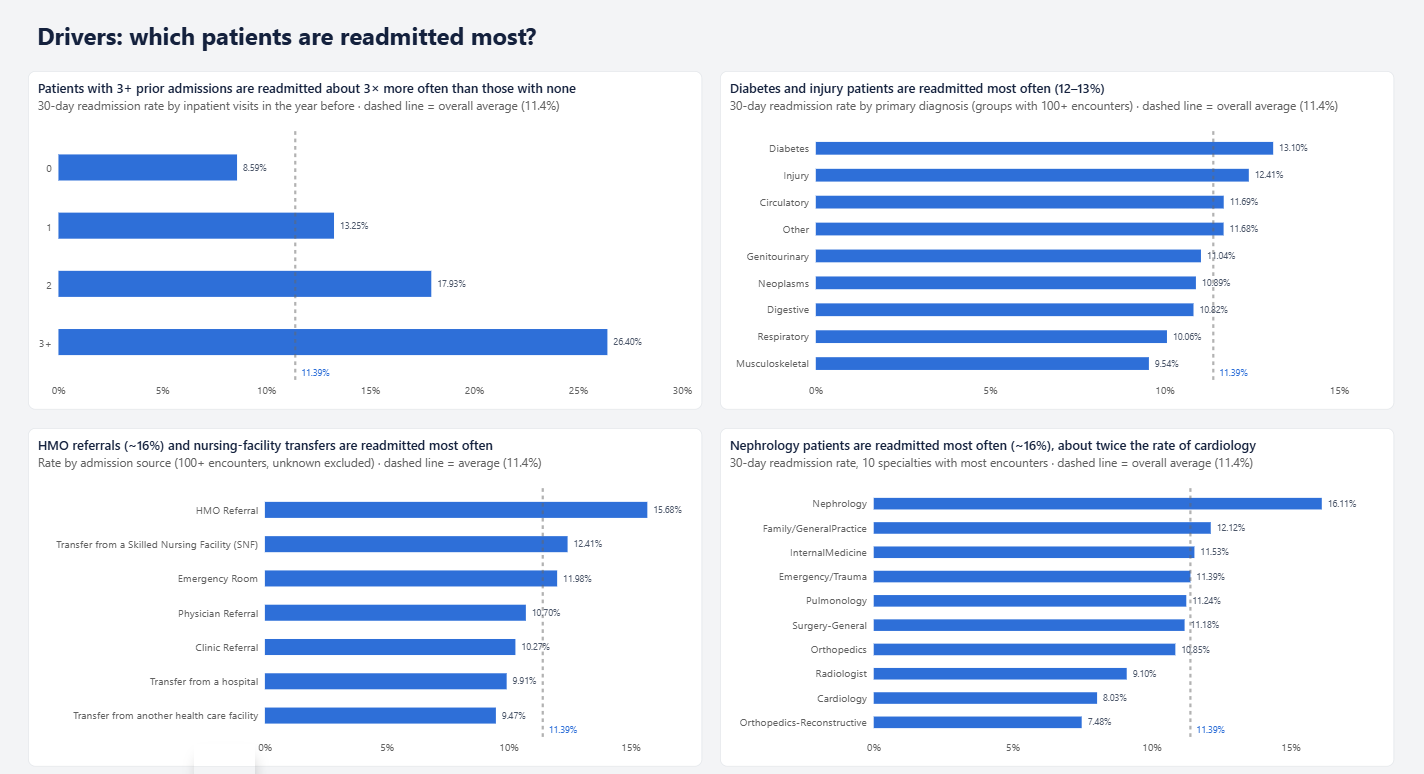

The page's visual inventory and layout, read from the dashboard file:
{"tool":"powerbi","page":{"name":"Drivers","canvas":[1920,1080],"ordinal":1},"visuals":[{"type":"clusteredBarChart","title":"Patients with 3+ prior admissions are readmitted about 3× more often than those with none","fields":{"Category":["FCT_ENCOUNTER.PRIOR_INPATIENT_BAND"],"Y":["FCT_ENCOUNTER.Readmission Rate 30d"]},"box":[40,104,908,456],"z":0},{"type":"clusteredBarChart","title":"Diabetes and injury patients are readmitted most often (12–13%)","fields":{"Category":["FCT_ENCOUNTER.PRIMARY_DIAGNOSIS_GROUP"],"Y":["FCT_ENCOUNTER.Readmission Rate 30d"]},"box":[972,104,908,456],"z":1000},{"type":"clusteredBarChart","title":"HMO referrals (~16%) and nursing-facility transfers are readmitted most often","fields":{"Category":["FCT_ENCOUNTER.ADMISSION_SOURCE"],"Y":["FCT_ENCOUNTER.Readmission Rate 30d"]},"box":[40,584,908,456],"z":2000},{"type":"clusteredBarChart","title":"Nephrology patients are readmitted most often (~16%), about twice the rate of cardiology","fields":{"Category":["FCT_ENCOUNTER.MEDICAL_SPECIALTY"],"Y":["FCT_ENCOUNTER.Readmission Rate 30d"]},"box":[972,584,908,456],"z":3000},{"type":"textbox","box":[40,24.3,1840,65.7],"z":20000}]}

Visuals, with their boxes on the page's 1920x1080 design canvas (x1, y1, x2, y2). These are canvas units, not pixel positions in the 1424x774 screenshot, which may show the page scaled, cropped or inside an application window:
"Patients with 3+ prior admissions are readmitted about 3× more often than those with none" clusteredBarChart: 40, 104, 948, 560
"Diabetes and injury patients are readmitted most often (12–13%)" clusteredBarChart: 972, 104, 1880, 560
"HMO referrals (~16%) and nursing-facility transfers are readmitted most often" clusteredBarChart: 40, 584, 948, 1040
"Nephrology patients are readmitted most often (~16%), about twice the rate of cardiology" clusteredBarChart: 972, 584, 1880, 1040
textbox: 40, 24, 1880, 90
